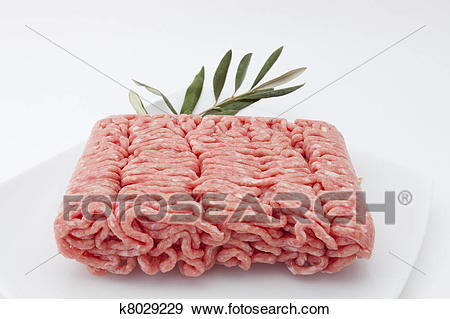ground_beef: (62, 99, 370, 283)
